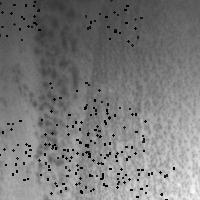pitted_surface: (86, 1, 200, 199), (24, 1, 83, 175), (62, 134, 122, 190), (44, 133, 100, 192), (84, 107, 144, 159), (49, 82, 108, 133), (0, 119, 41, 179), (85, 0, 140, 44), (115, 167, 173, 200), (0, 0, 38, 40)
